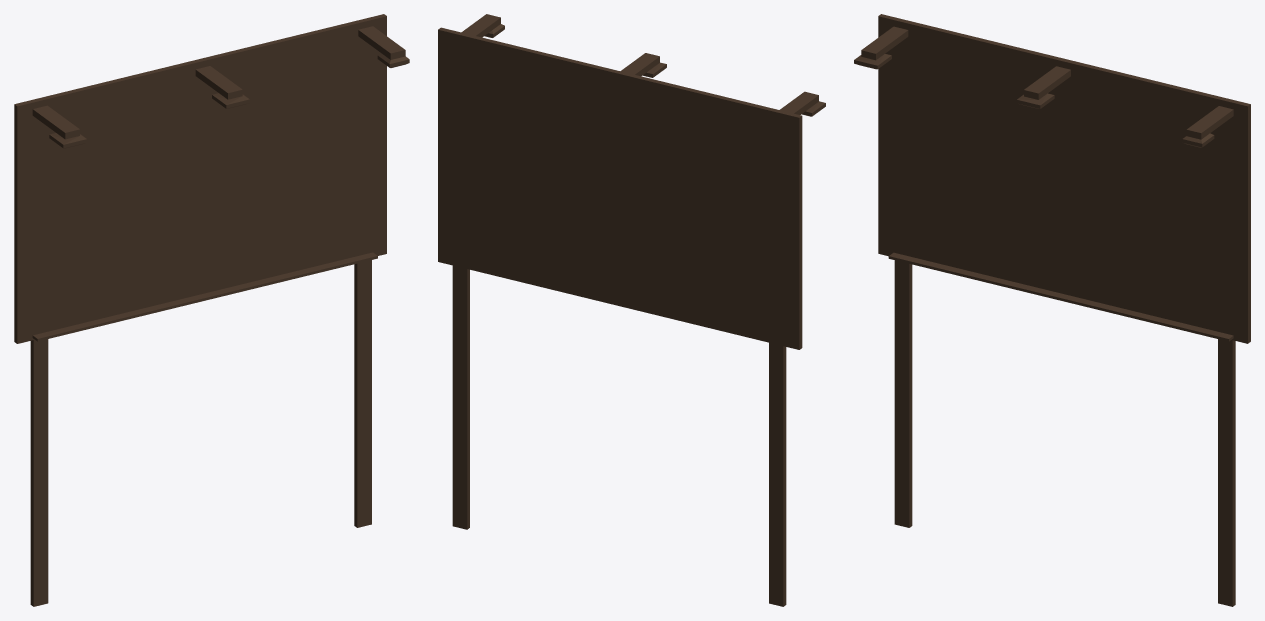
Rendered from BillBoard.fbx.
The picture shows the model from 3 angles, left to right: view 1: azimuth 30°, elevation 25°; view 2: azimuth 150°, elevation 25°; view 3: azimuth 330°, elevation 25°; orthographic projection. The views are drawn at different scales.
Visible parts, largest first — view 1: Cube; view 2: Cube; view 3: Cube.
Part boxes in pixels (x1,y1,x2,y2): Cube: [14, 14, 409, 606]; Cube: [438, 14, 825, 606]; Cube: [854, 14, 1250, 606].
Bounding box in the file's own units: 1674 × 2181 × 299.
